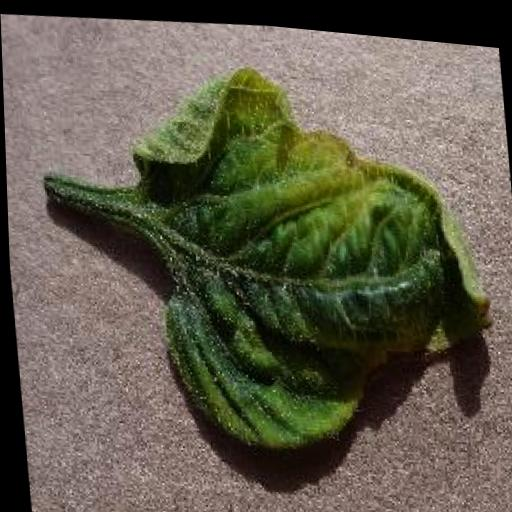Yellow Leaf Curl Virus: (123, 39, 500, 465)
